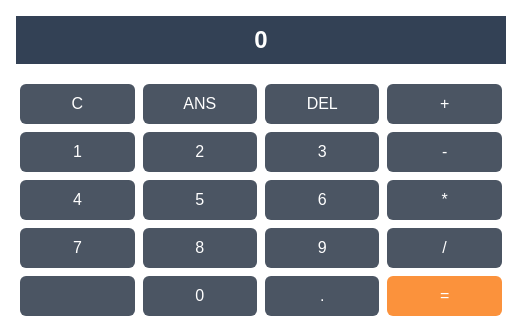
Test case: Calculator › Calculator displays 0 after clicking number then C
The width and height of the screenshot is (523, 333).
Click the button with test id "calculator-button-5". click: x=200, y=200
box: [143,180,257,220]
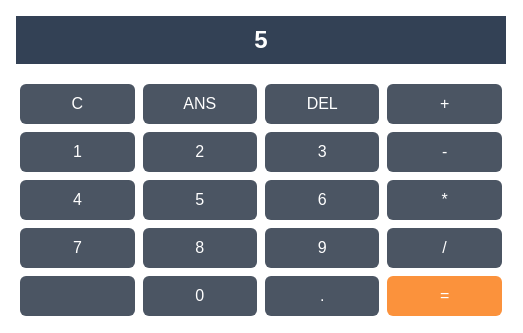
Click the button with test id "calculator-button-C". click: x=77, y=104
box: [20,84,135,124]
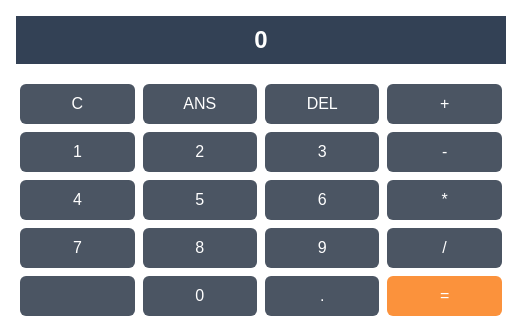
Expected: the text with test id "calculator-display" reads "0", [254,26,268,53]
